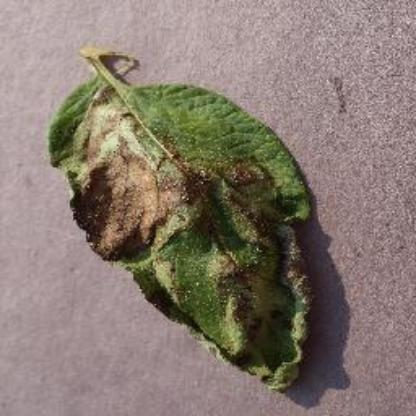Late-Blight: (42, 38, 328, 394)
